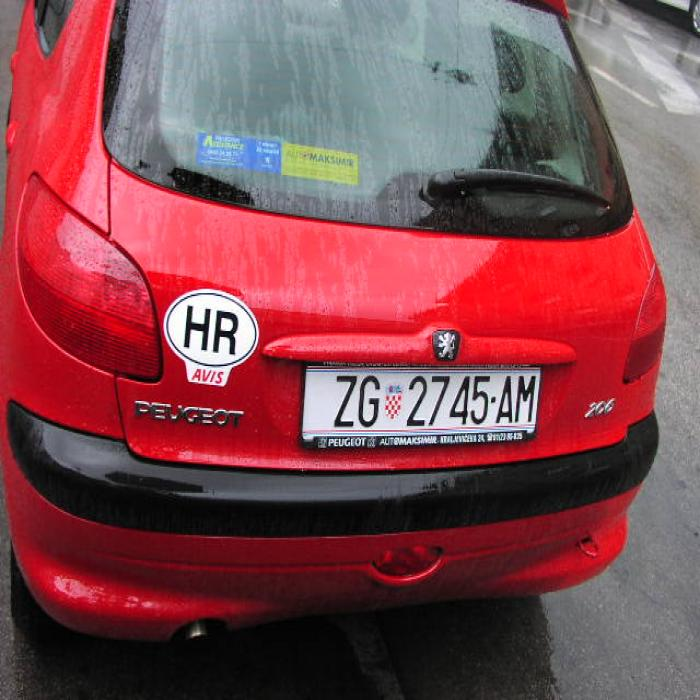number_plate: (307, 366, 536, 432)
